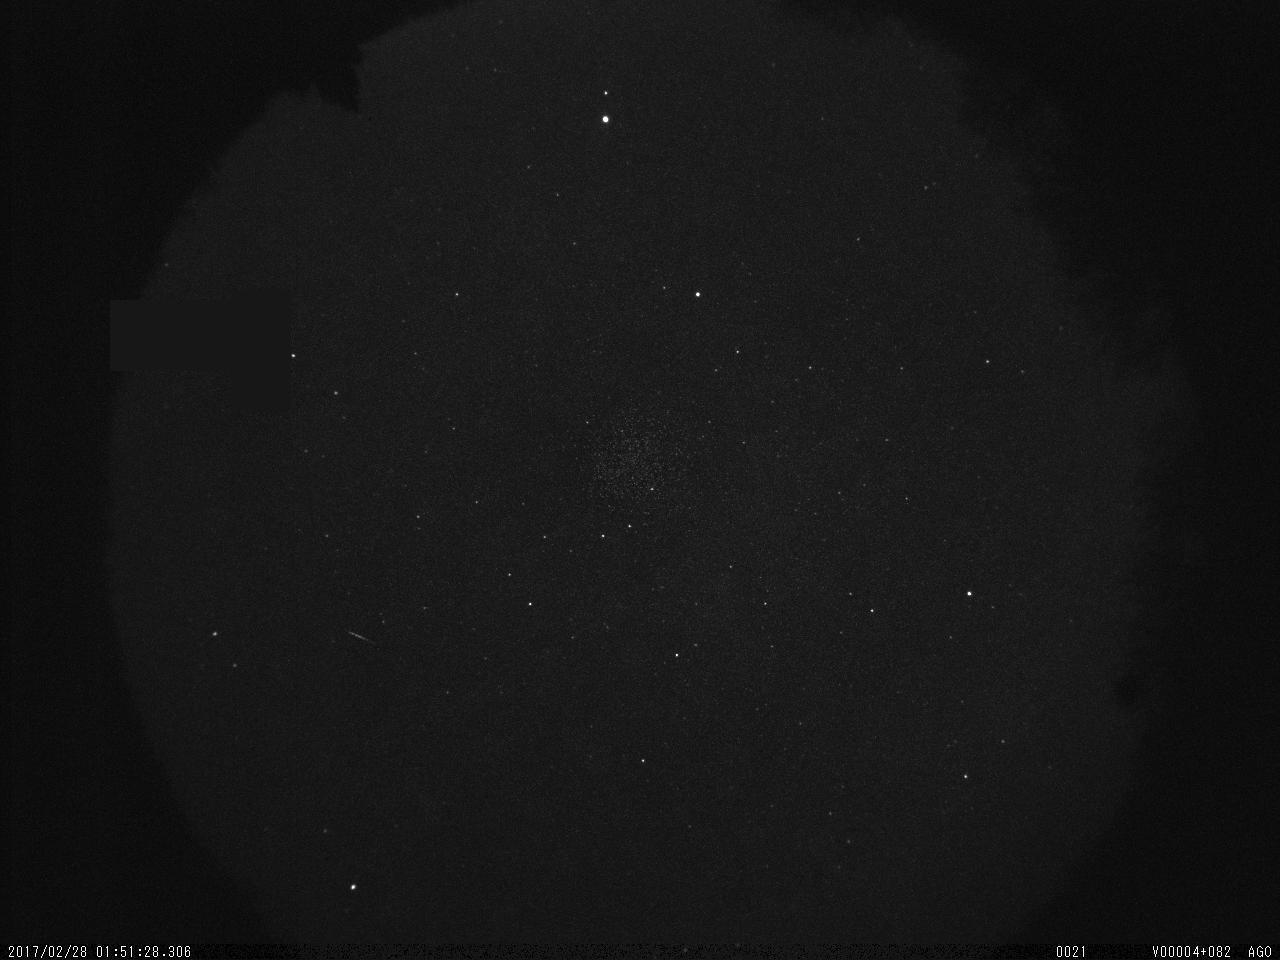meteor: (341, 619, 385, 657)
